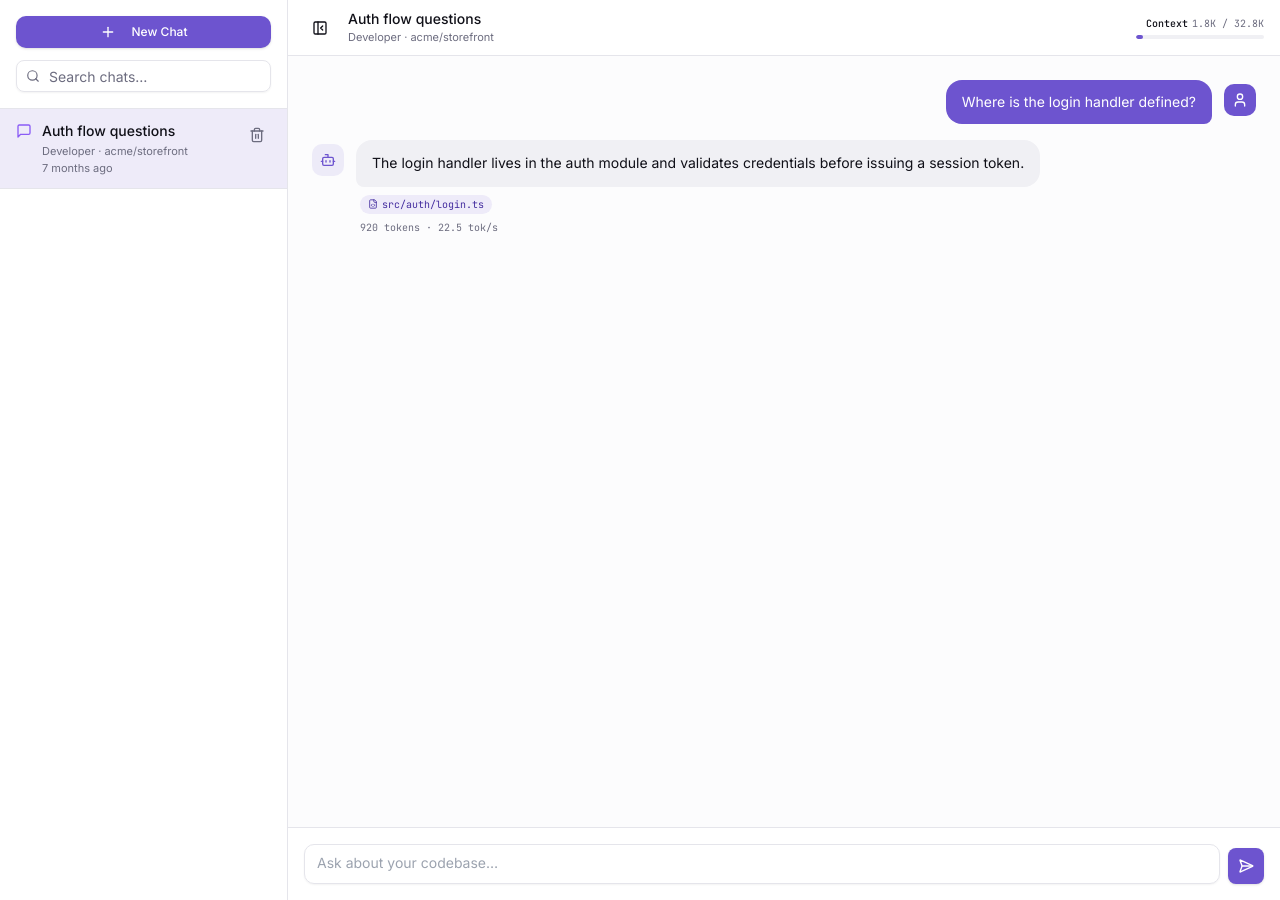
Test: Chat › shows a meaningful error when the chat query fails
expect the text "validates credentials" is shown: met, box [372,154,1024,171]
Type "hi" into the text box with placeholder "Ask about your codebase…" at (762, 864), box [304,844,1220,884]
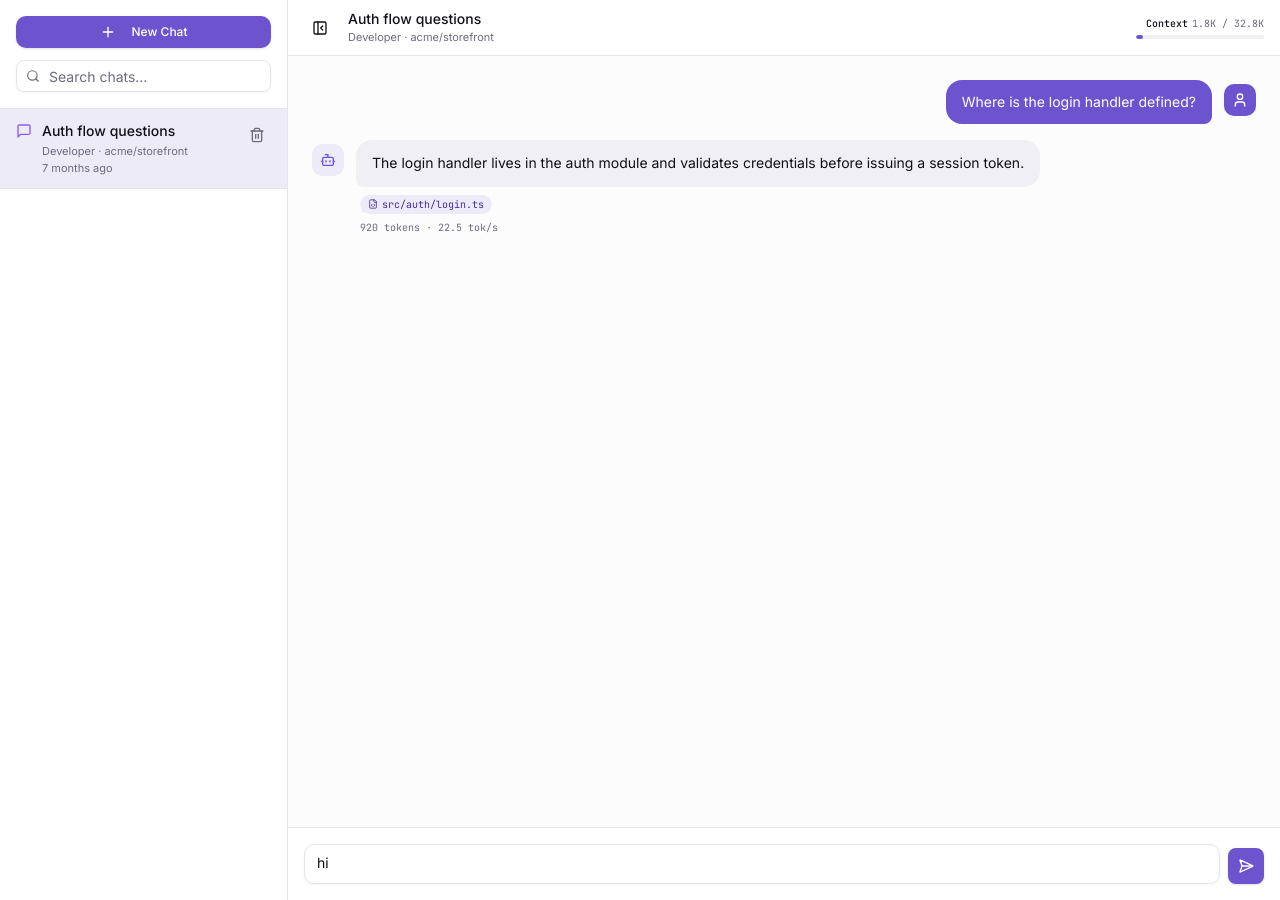
Click the button named "Send message" at (1246, 866), box [1228,848,1264,884]
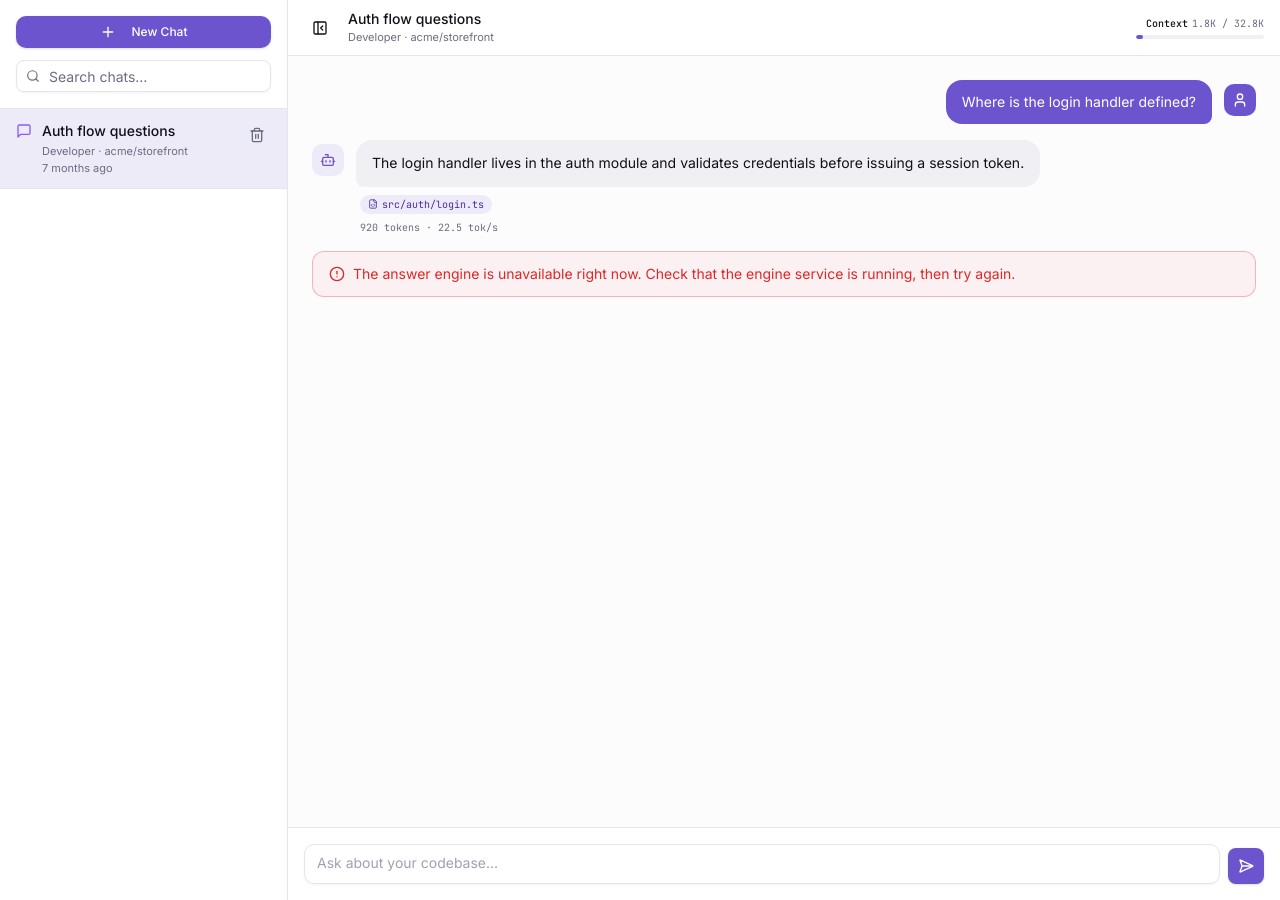
expect the text "answer engine is unavailable" is shown: met, box [353,265,1015,282]
